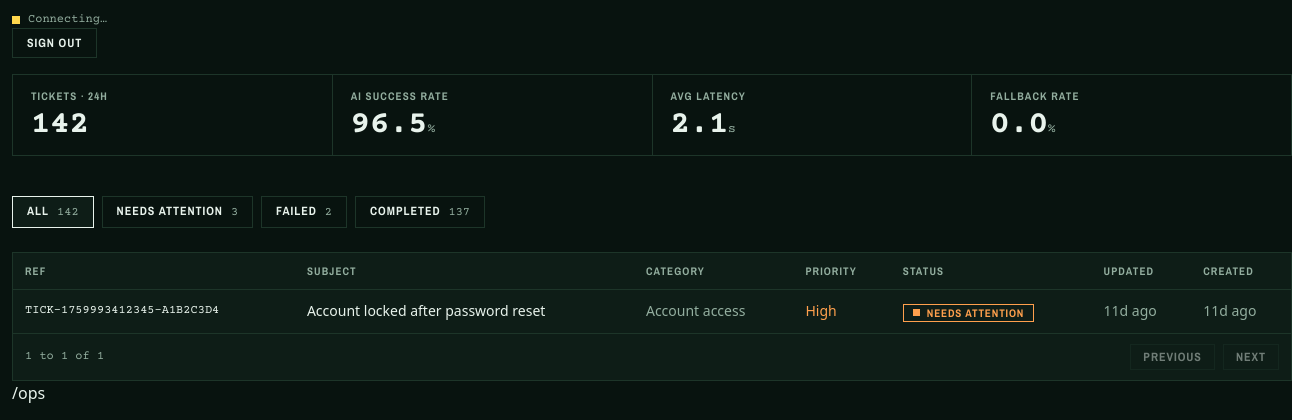
Test: the ticket table › filters by a status tab and keeps it in the URL
The width and height of the screenshot is (1292, 420).
Check: the table is shown, box [13,253,1291,332]
Click the tab "Failed 2" at (304, 212), box [261,196,347,228]
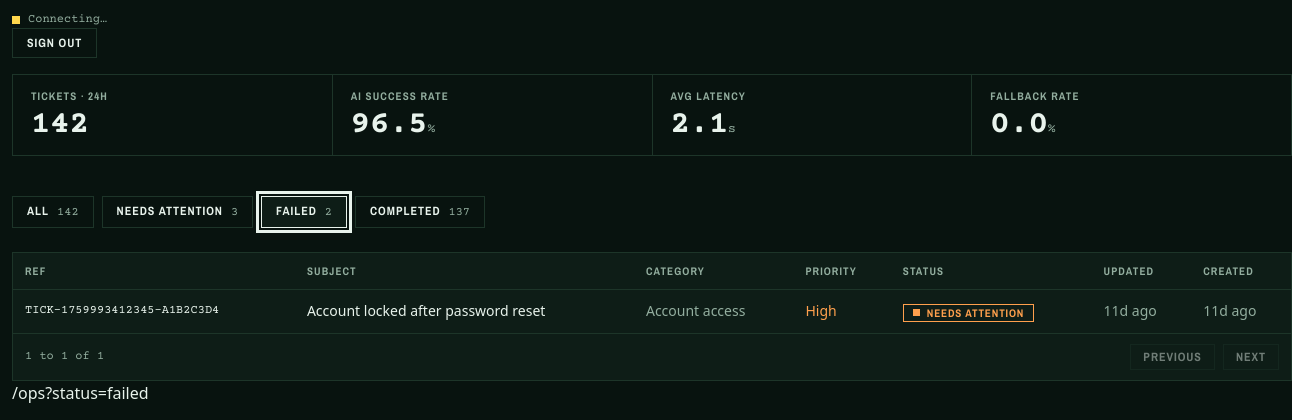
Check: the text with test id "url" reads "/ops?status=failed", box [12,382,149,404]
